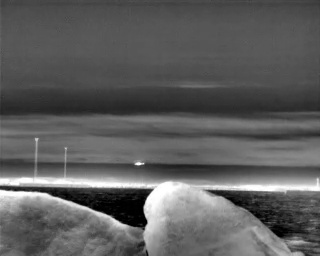HELICOPTER: (132, 158, 148, 171)
